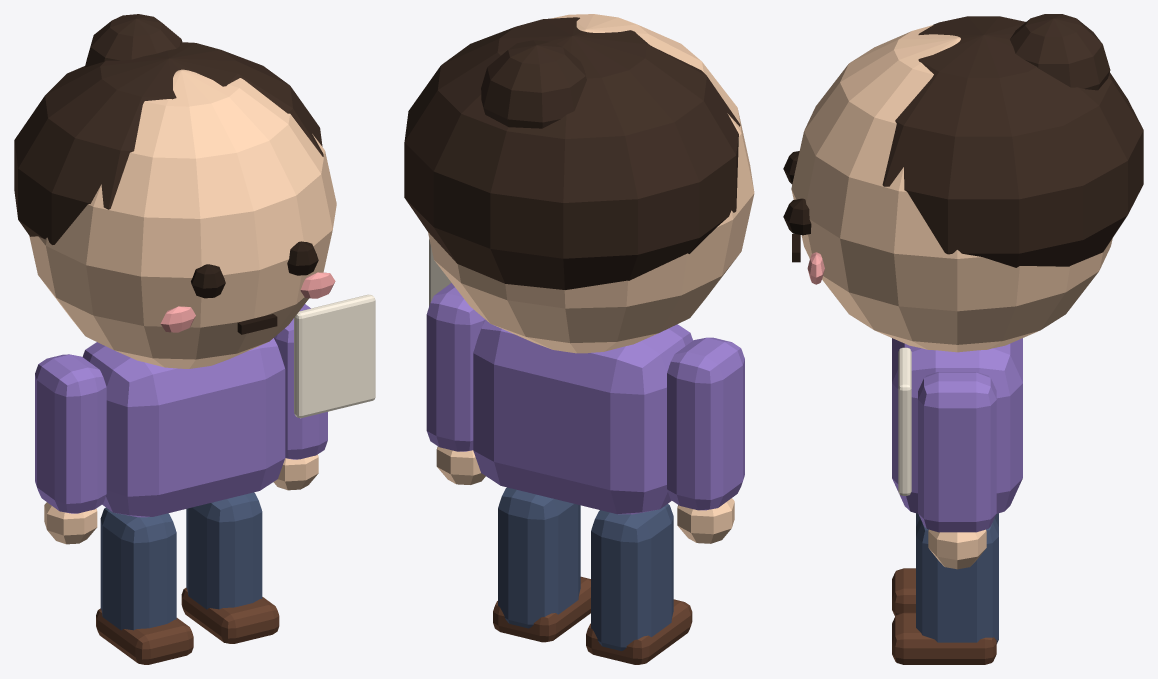
File: kar_penjaga_karier.fbx
The picture shows the model from 3 angles, left to right: view 1: azimuth 30°, elevation 25°; view 2: azimuth 150°, elevation 25°; view 3: azimuth 270°, elevation 25°; orthographic projection. The views are drawn at different scales.
Parts seen in each view (by area): view 1: kar_penjaga_karier; view 2: kar_penjaga_karier; view 3: kar_penjaga_karier.
Part boxes in pixels (<box>): kar_penjaga_karier: <box>14,14,375,664</box>; kar_penjaga_karier: <box>404,14,754,664</box>; kar_penjaga_karier: <box>783,14,1143,664</box>.
Bounding box in the file's own units: 85 × 155 × 82.44.
Materials: 1 (1 with a texture image).
